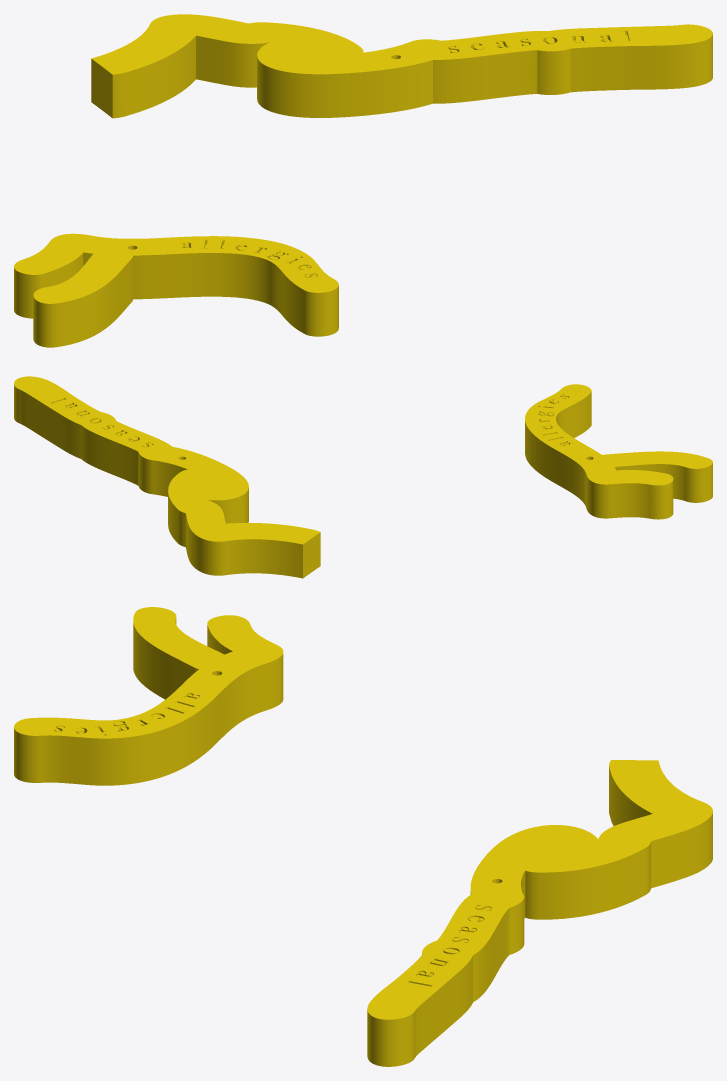
The model's file is seasonal_allergies_metal.glb.
The picture shows the model from 3 angles, top to bottom: view 1: azimuth 30°, elevation 25°; view 2: azimuth 150°, elevation 25°; view 3: azimuth 270°, elevation 25°; orthographic projection. The views are drawn at different scales.
Bounding box in the file's own units: 187 × 10.19 × 134.
